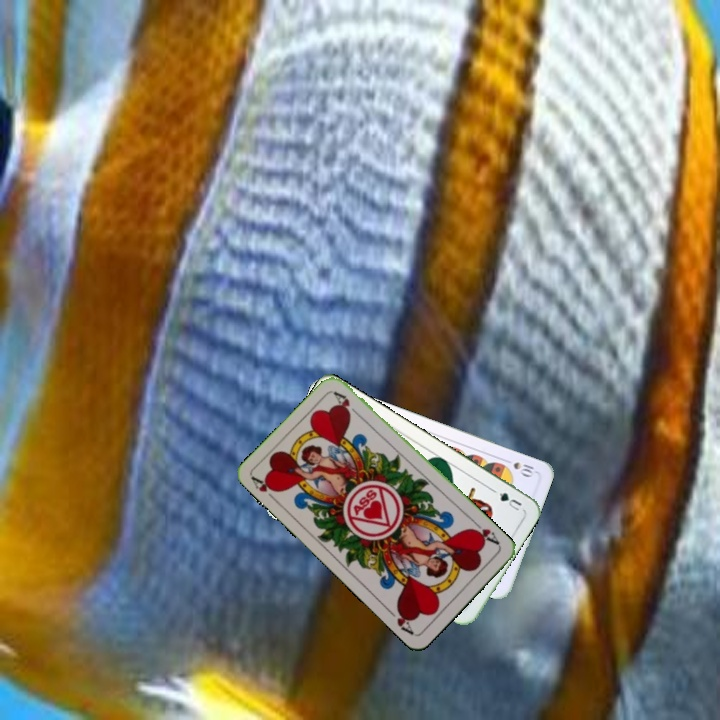GU: (489, 486, 524, 513)
HA: (466, 517, 502, 549), (248, 473, 281, 506)
S10: (500, 455, 539, 479)
